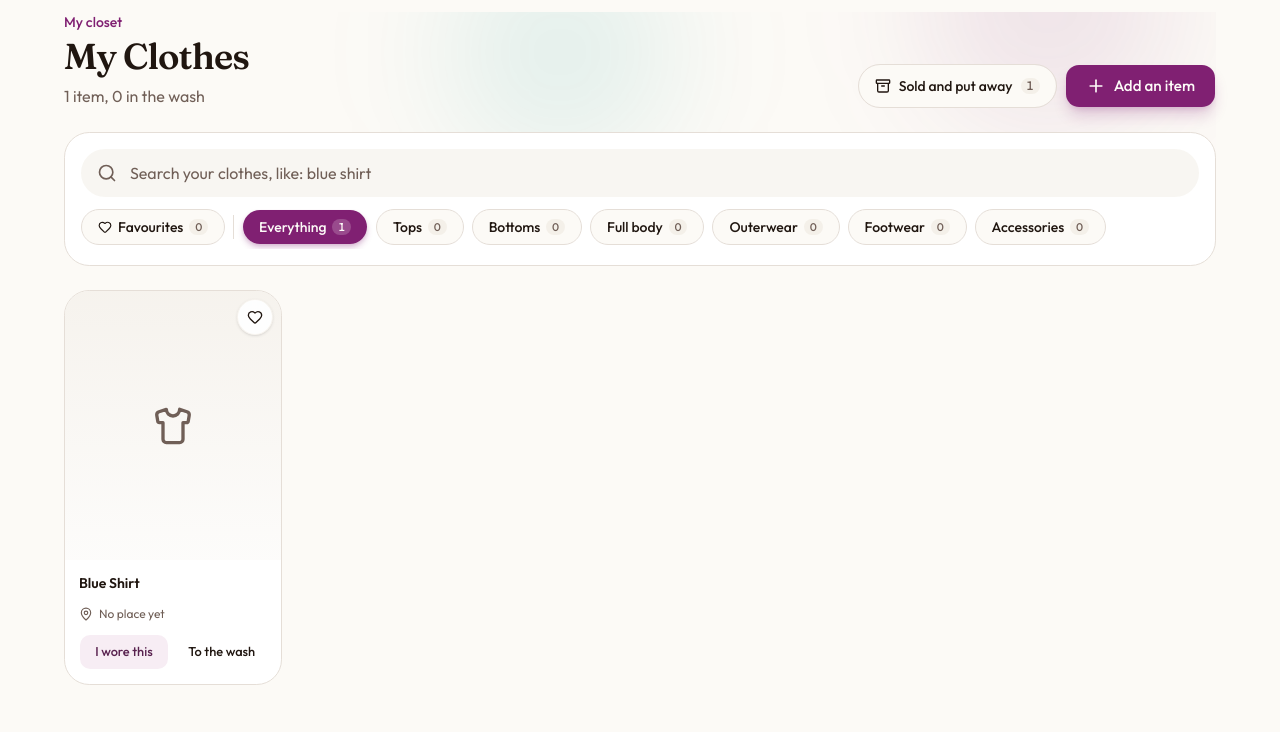
ClosetPage › shows the gone things when it is pressed, and the closet again when pressed twice
Check: the link "Blue Shirt" is shown, box [79,574,140,592]
What coordinates should you click on to do the following:
click the button "Sold and put away 1"
I would click on:
 (957, 86)
Its box is [858,64,1057,108].
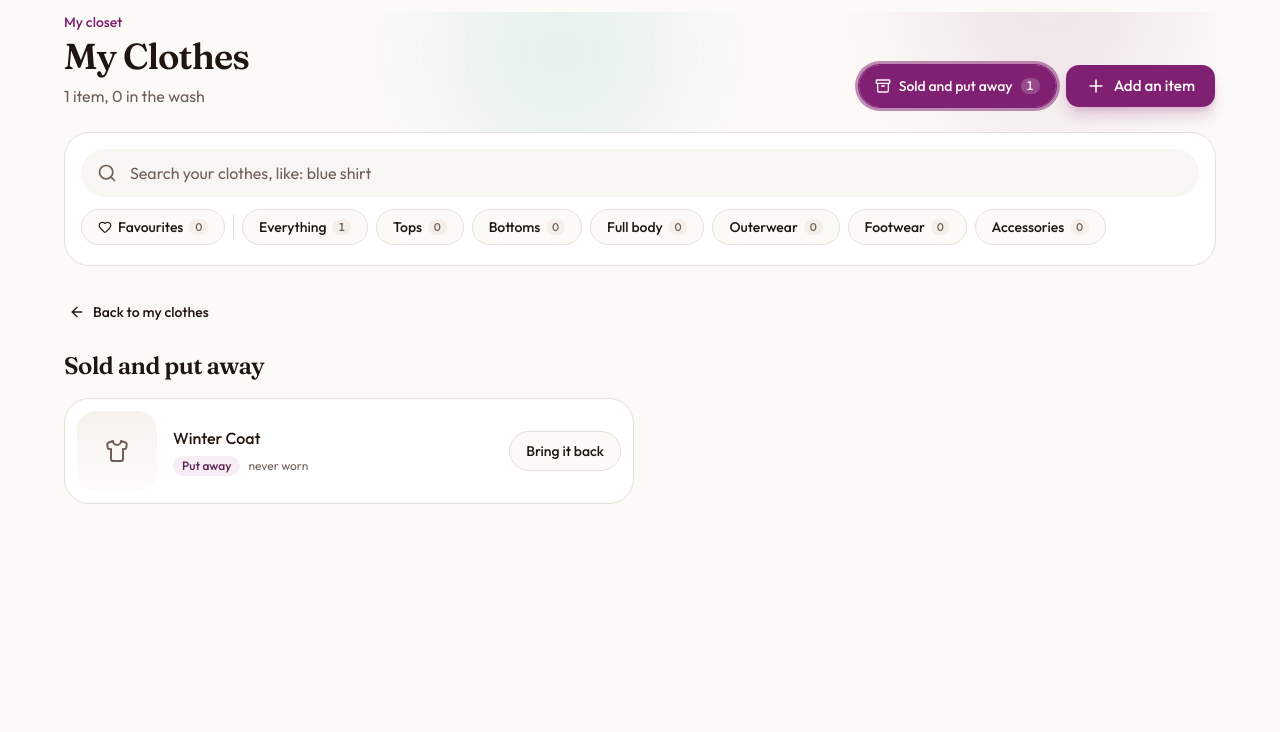
Check: the text "Winter Coat" is shown, box [173,428,261,448]
What coordinates should you click on to do the following:
click the button "Sold and put away 1"
I would click on:
 (957, 86)
Its box is [858,64,1057,108].
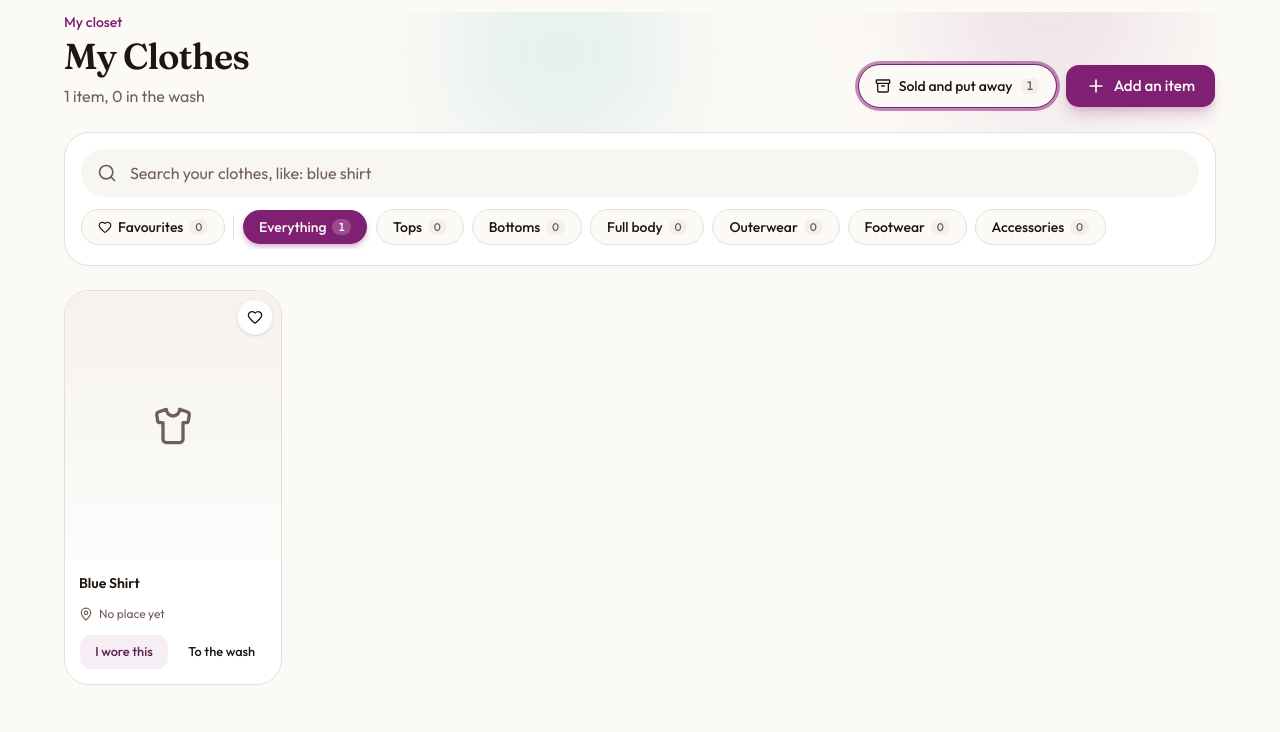
Check: the link "Blue Shirt" is shown, box [79,574,140,592]
